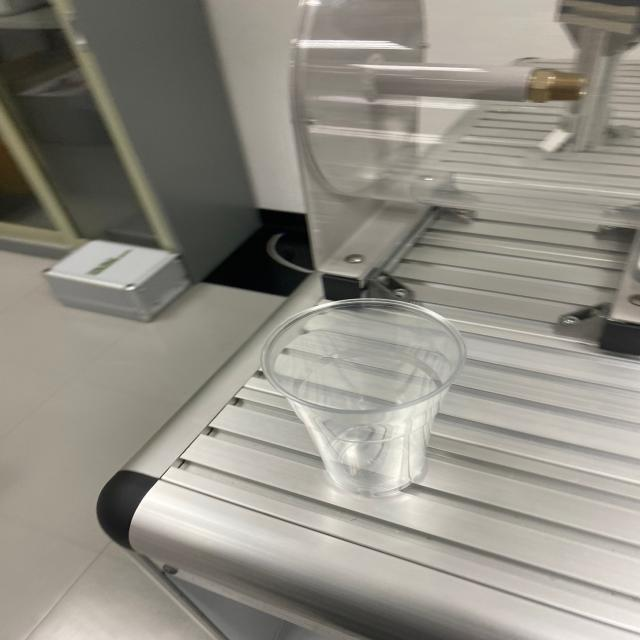glass: (253, 292, 473, 500)
